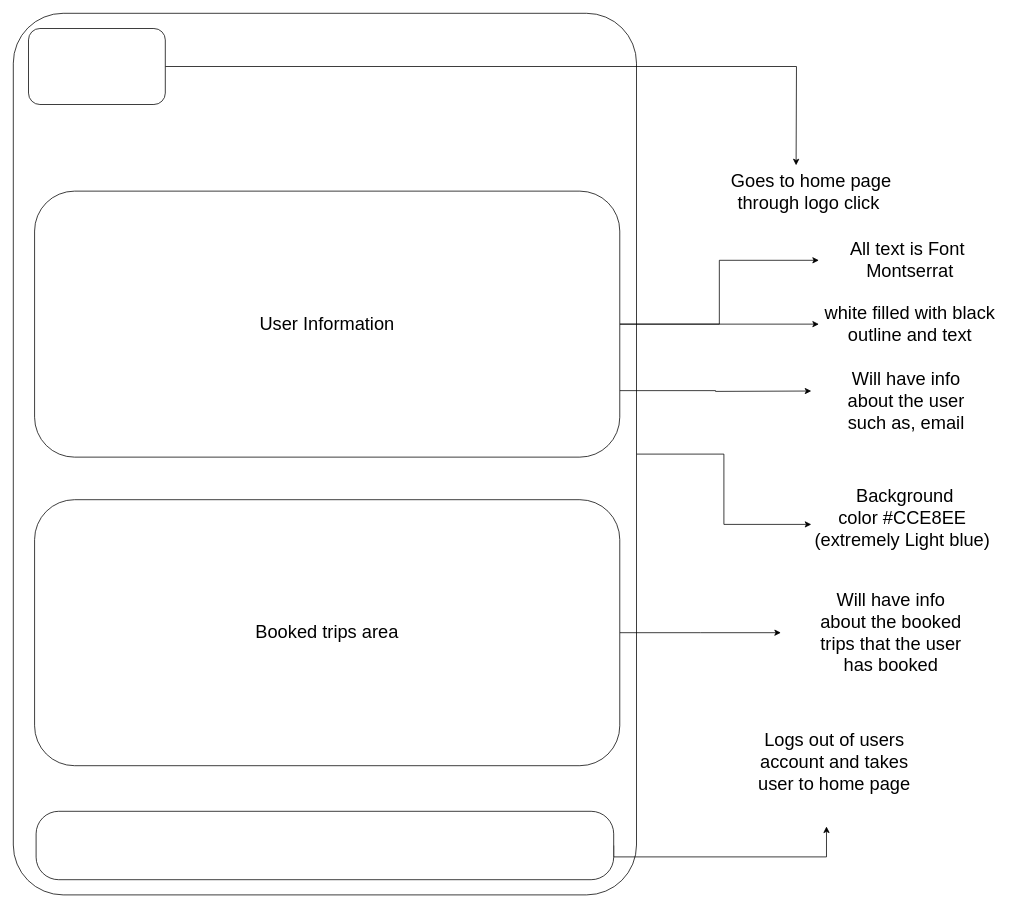
Some shapes in this 1015 by 908 pixel diagram are drawn without their labels. Each missing label, with the centre of its shape:
"IMG BTN Logo" belongs at [96,66].
"Log Out" belongs at [324,845].
